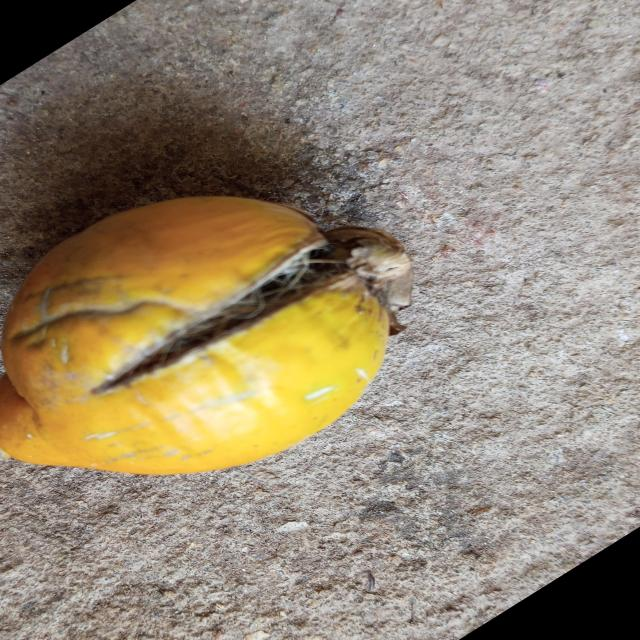damaged: (0, 196, 414, 479)
